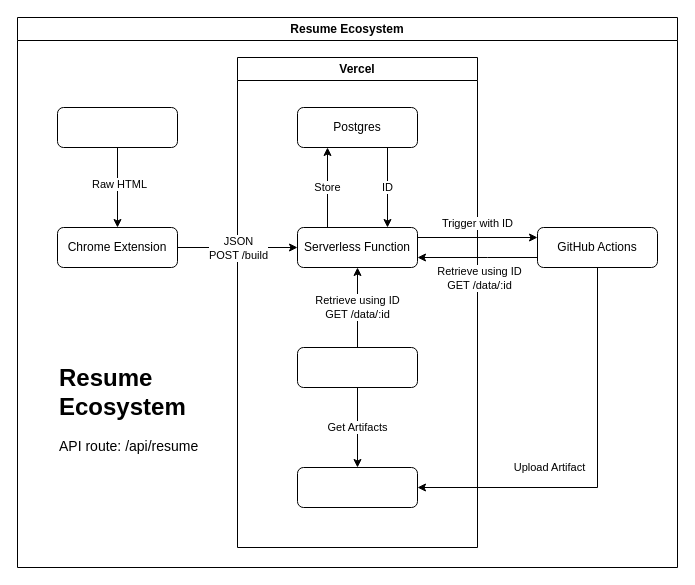
This 695x585 diagram has some shape labels left out. The shapes that lost their labels are listed below. From the top down, each one's centre as x and y in pixels, then its label:
At pixel 117 127: "LinkedIn".
At pixel 357 367: "Frontend".
At pixel 357 487: "Blob".
